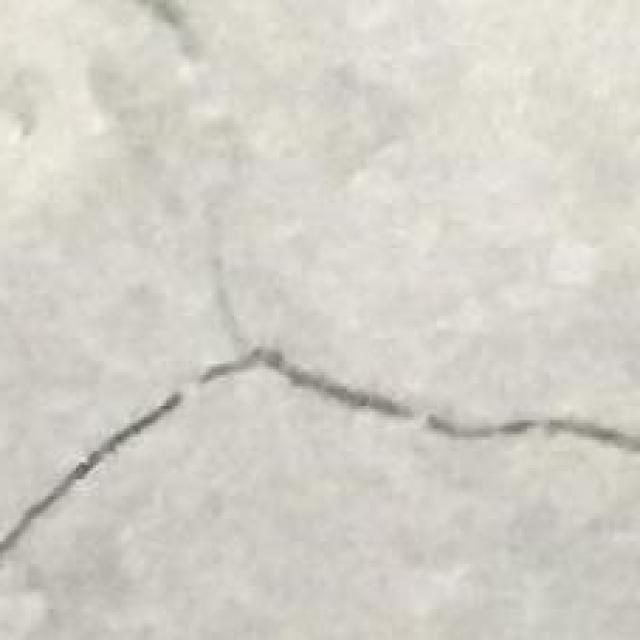Crack: (0, 342, 638, 557)
